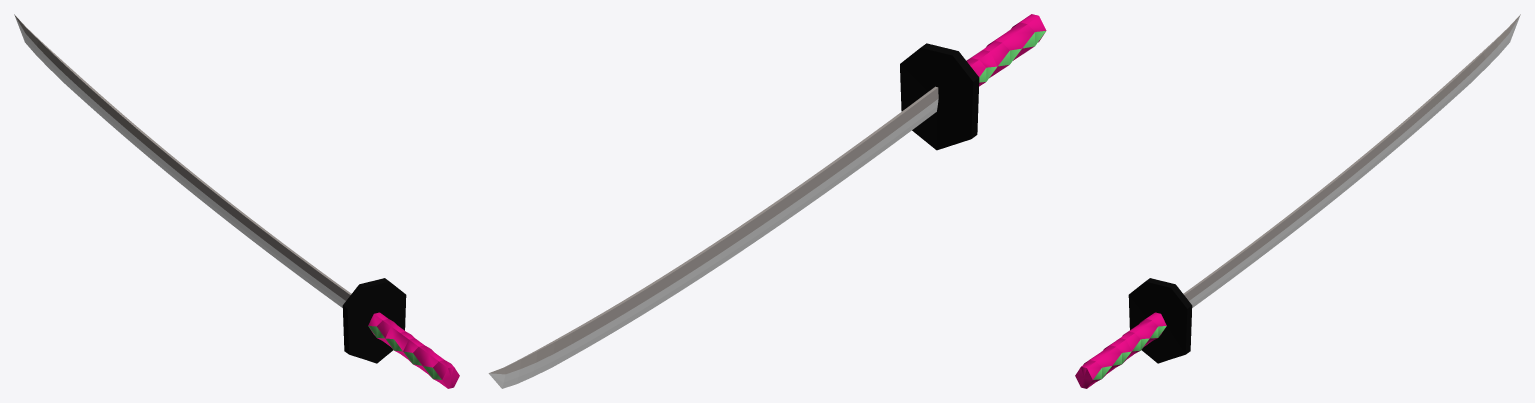
The model's file is sword.fbx.
The picture shows the model from 3 angles, left to right: view 1: azimuth 30°, elevation 25°; view 2: azimuth 150°, elevation 25°; view 3: azimuth 330°, elevation 25°; orthographic projection. The views are drawn at different scales.
Visible parts, largest first — view 1: Sword; view 2: Sword; view 3: Sword.
Part boxes in pixels (bbox=[...]): Sword: bbox=[14, 14, 459, 388]; Sword: bbox=[488, 14, 1046, 388]; Sword: bbox=[1075, 14, 1520, 388].
Size of the model in its own units: 12.83 by 17.58 by 165.
